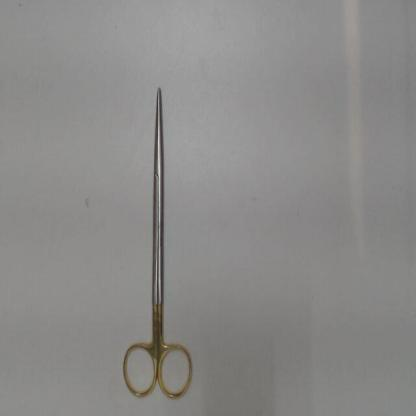7 Metzenbaum Scissors: (122, 87, 196, 402)
